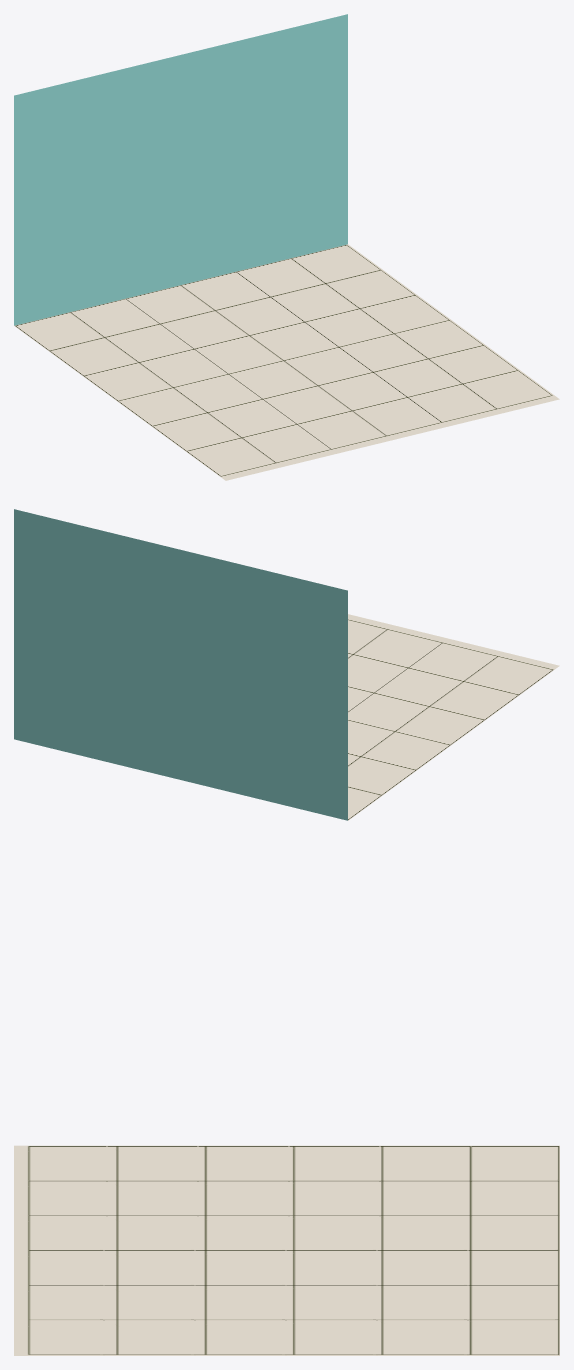
Rendered from Environment_Tembok_Model_05.fbx.
The picture shows the model from 3 angles, top to bottom: view 1: azimuth 30°, elevation 25°; view 2: azimuth 150°, elevation 25°; view 3: azimuth 270°, elevation 25°; orthographic projection. The views are drawn at different scales.
Parts seen in each view (by area): view 1: Kelas; view 2: Kelas; view 3: Kelas.
Boxes of the visible parts, x1=… form: Kelas: x1=14, y1=14, x2=559, y2=480; Kelas: x1=14, y1=509, x2=559, y2=820; Kelas: x1=14, y1=1145, x2=559, y2=1355.
Bounding box in the file's own units: 560 × 368 × 614.
Materials: 1 (1 with a texture image).
